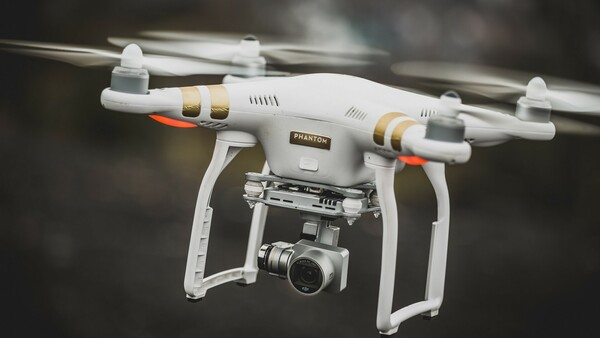drone: (100, 25, 587, 338)
